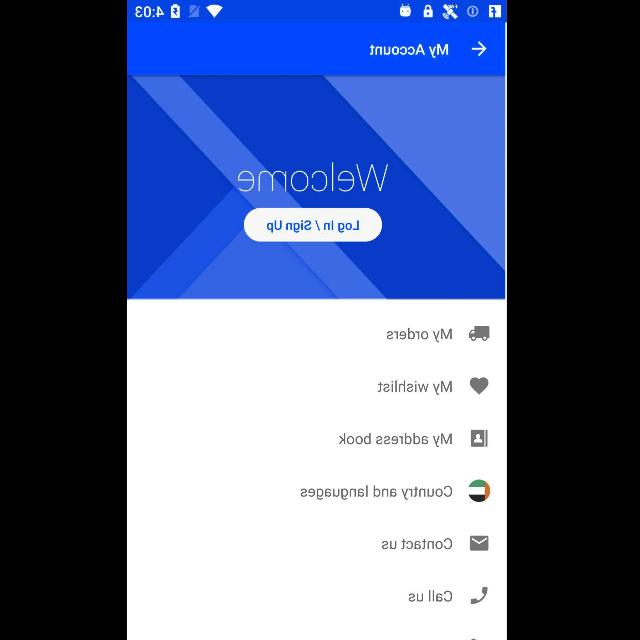icon: (469, 378, 488, 394), (470, 536, 490, 550), (472, 429, 488, 446), (472, 42, 488, 56)
image: (469, 480, 491, 502), (470, 325, 490, 341), (472, 586, 488, 604)
text: (239, 162, 389, 192), (302, 484, 452, 500), (340, 432, 452, 448), (379, 380, 453, 396), (371, 46, 449, 59), (388, 328, 452, 342), (383, 539, 453, 549), (409, 590, 453, 602)
textbutton: (244, 208, 384, 242)
toolbar: (128, 23, 506, 75)
uppertaskbar: (128, 1, 508, 23)
